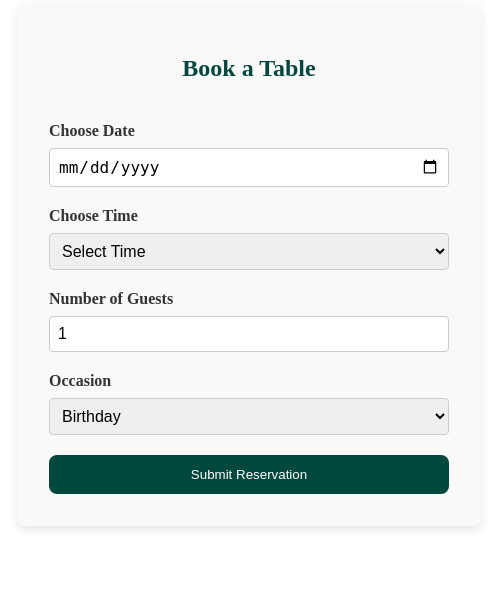
Test: BookingForm Component › validates required fields
Click the button "Submit Reservation": (249, 474) [49, 455, 449, 494]
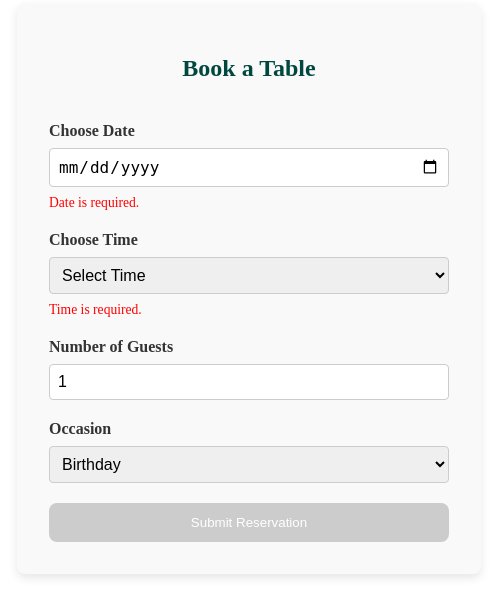
Expected: the text "Date is required." is shown, [49, 195, 139, 210]
Expected: the text "Time is required." is shown, [49, 302, 142, 317]
